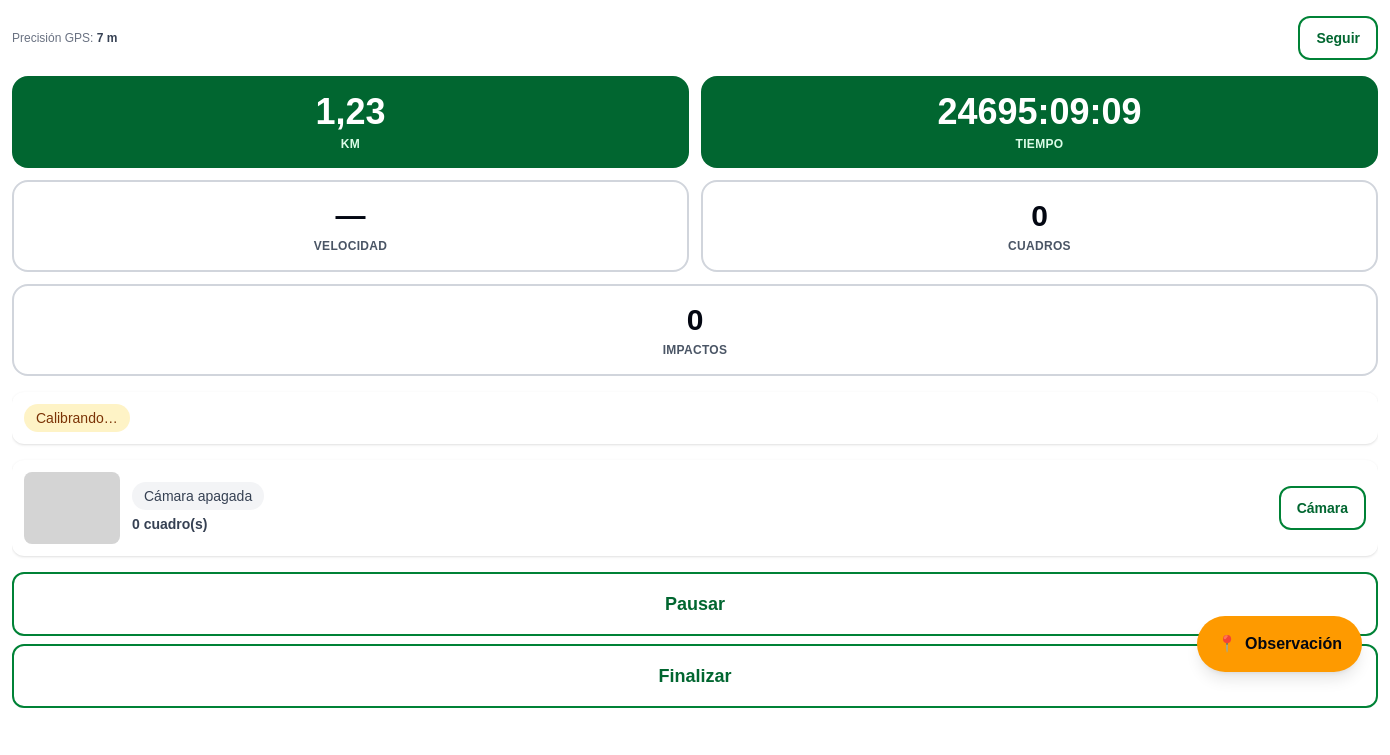
Test: RecorridoView › con el resumen del propio recorrido muestra los tramos
Click the button "Finalizar" at {"x": 695, "y": 676}, box [12,644,1378,708]
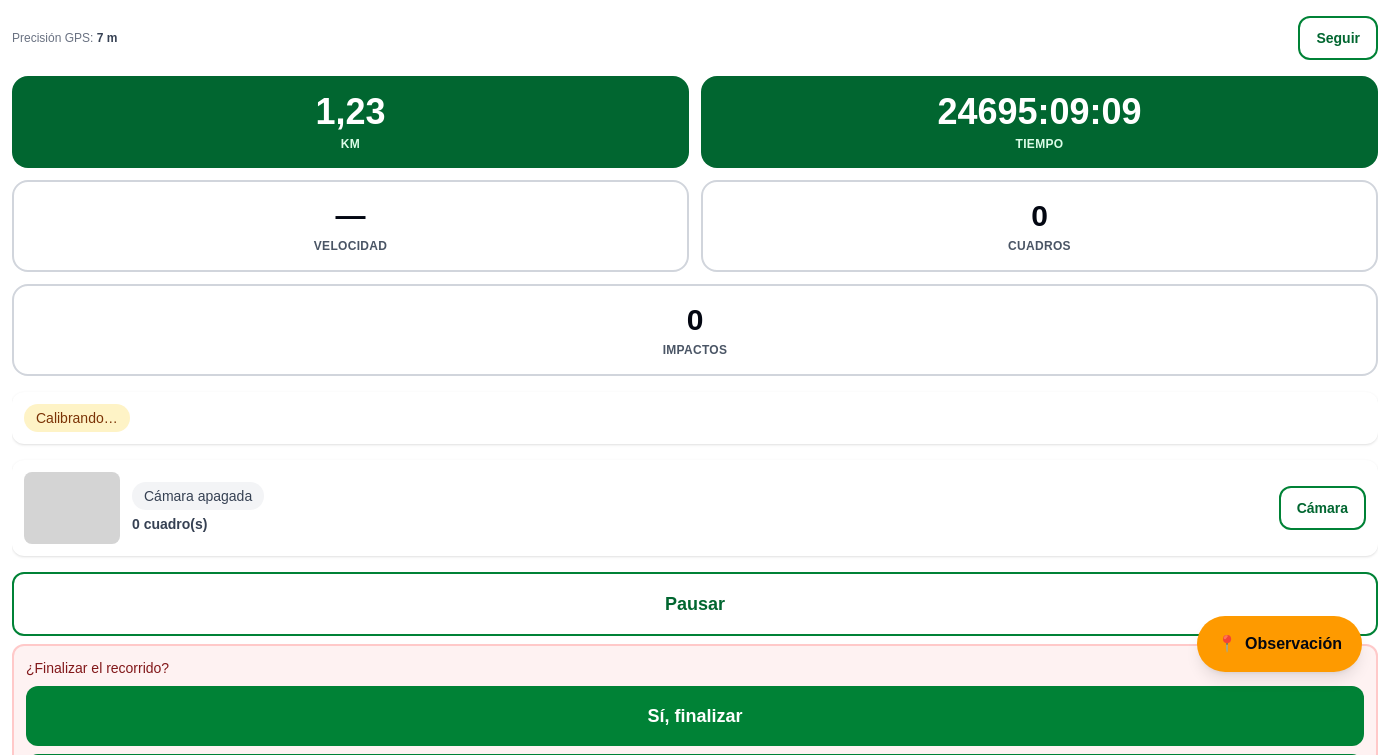
Click the button "Sí, finalizar" at {"x": 695, "y": 716}, box [26,686,1364,746]
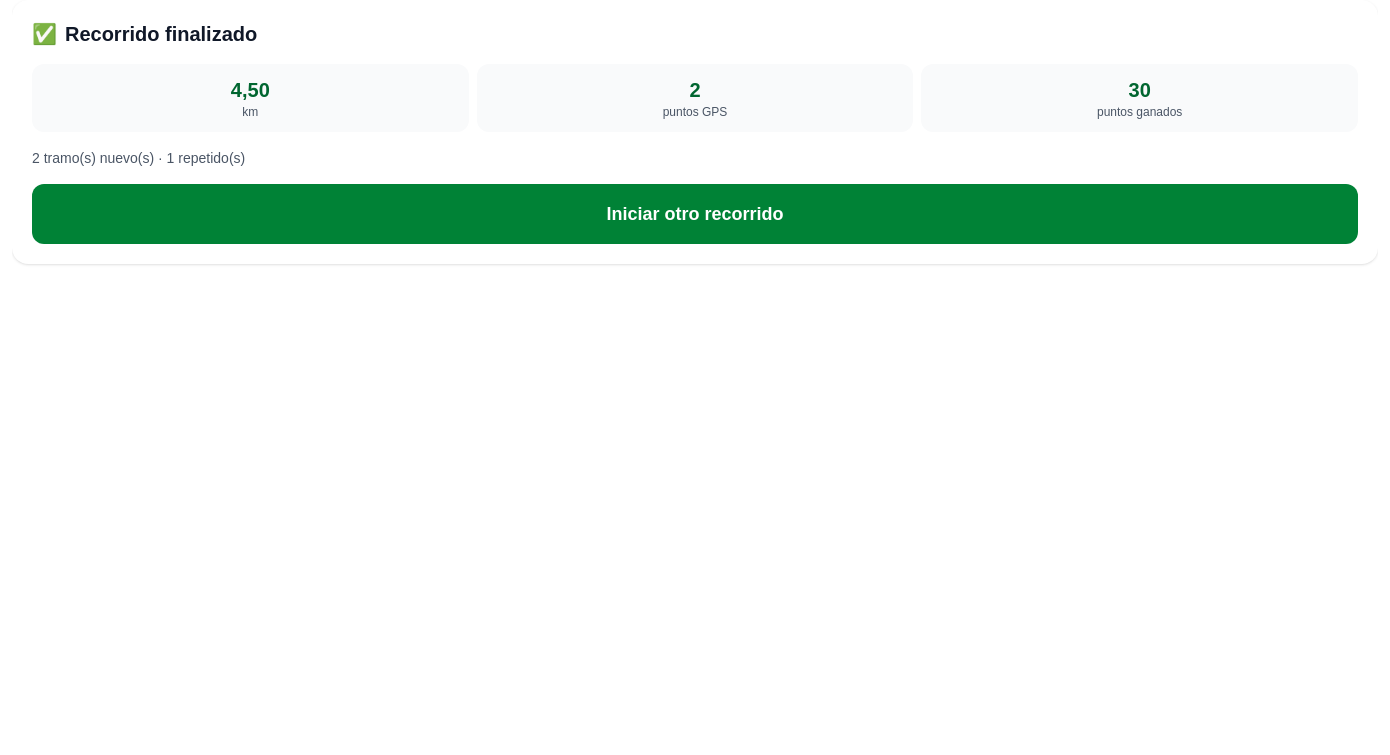
Expected: the text "2 tramo(s) nuevo(s) · 1 repetido(s)" is shown, [32,150,245,166]
